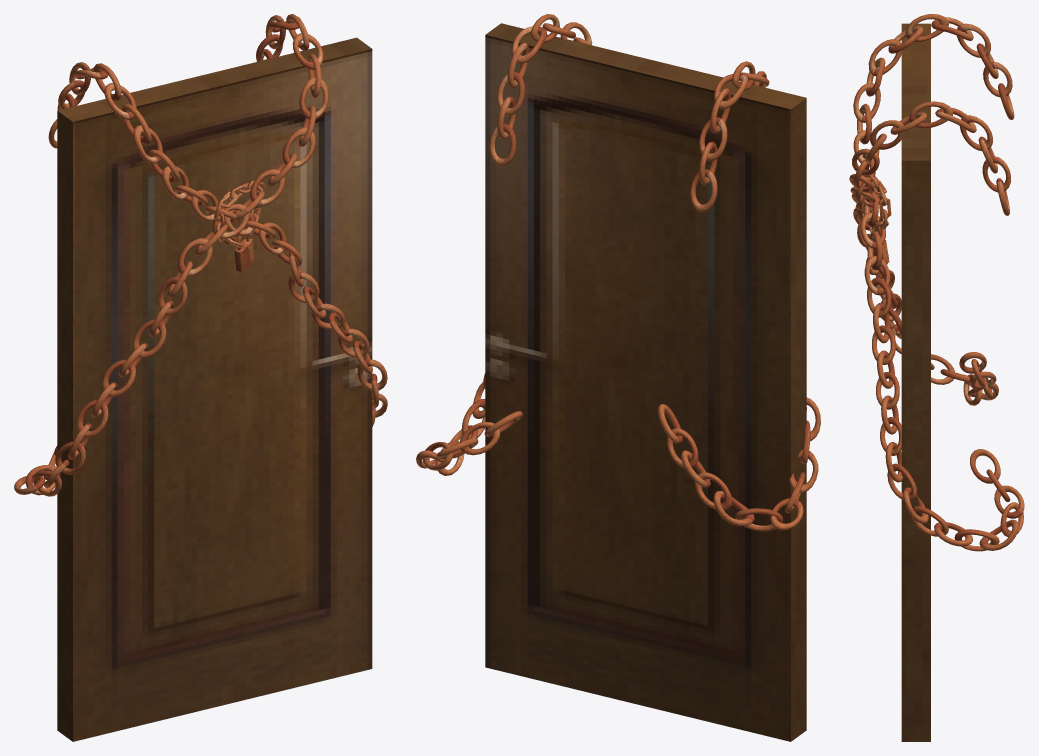
The model's file is chained door.fbx.
3 views of the same model, side by side, from view 1: azimuth 30°, elevation 25°; view 2: azimuth 150°, elevation 25°; view 3: azimuth 270°, elevation 25° (orthographic). The views are drawn at different scales.
Parts seen in each view (by area): view 1: door frame with chains, polySurface129, polySurface155, polySurface156, polySurface133, padlock; view 2: door frame with chains, polySurface129, polySurface156, polySurface155, polySurface133; view 3: door frame with chains, polySurface133, polySurface155, polySurface156, polySurface129, padlock.
Part boxes in pixels (<box>): door frame with chains: <box>57,37,372,741</box>; polySurface129: <box>14,204,246,496</box>; polySurface155: <box>48,62,240,234</box>; polySurface156: <box>233,14,328,227</box>; polySurface133: <box>236,210,387,426</box>; padlock: <box>212,180,264,272</box>; door frame with chains: <box>485,23,806,741</box>; polySurface129: <box>657,397,820,531</box>; polySurface156: <box>489,14,592,166</box>; polySurface155: <box>690,61,769,212</box>; polySurface133: <box>416,373,522,475</box>; door frame with chains: <box>901,23,930,741</box>; polySurface133: <box>860,193,1024,551</box>; polySurface155: <box>853,14,1014,213</box>; polySurface156: <box>849,101,1010,215</box>; polySurface129: <box>851,194,998,405</box>; padlock: <box>863,174,891,263</box>.
Bounding box in the file's own units: 118 × 211 × 54.6.
Materials: 3 (3 with a texture image).
